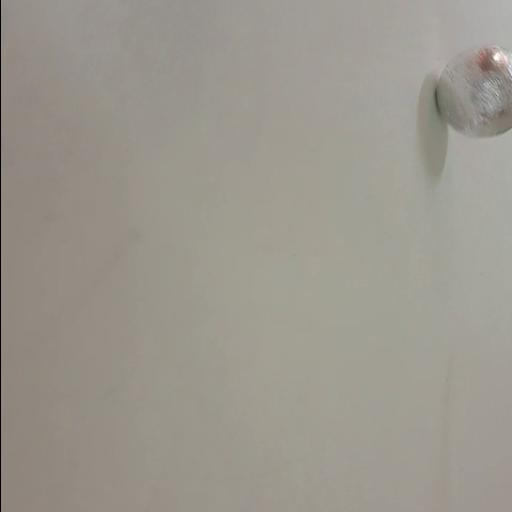alive: (435, 42, 512, 138)
